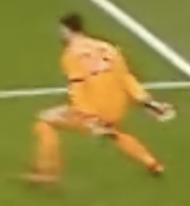goalkeeper: (16, 4, 187, 196)
